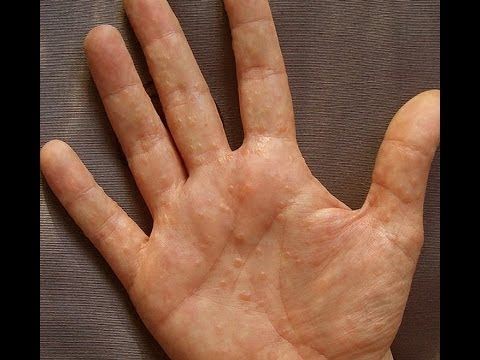Diseased: (88, 26, 399, 320)
